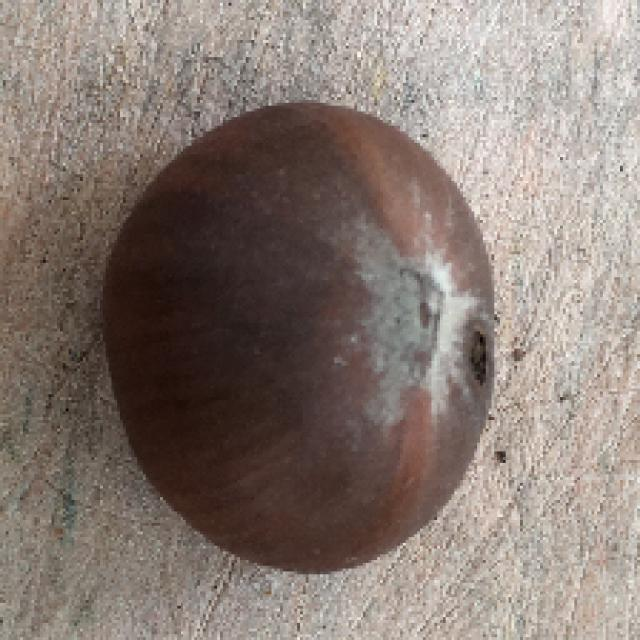damagedHazelnut: (92, 80, 523, 590)
